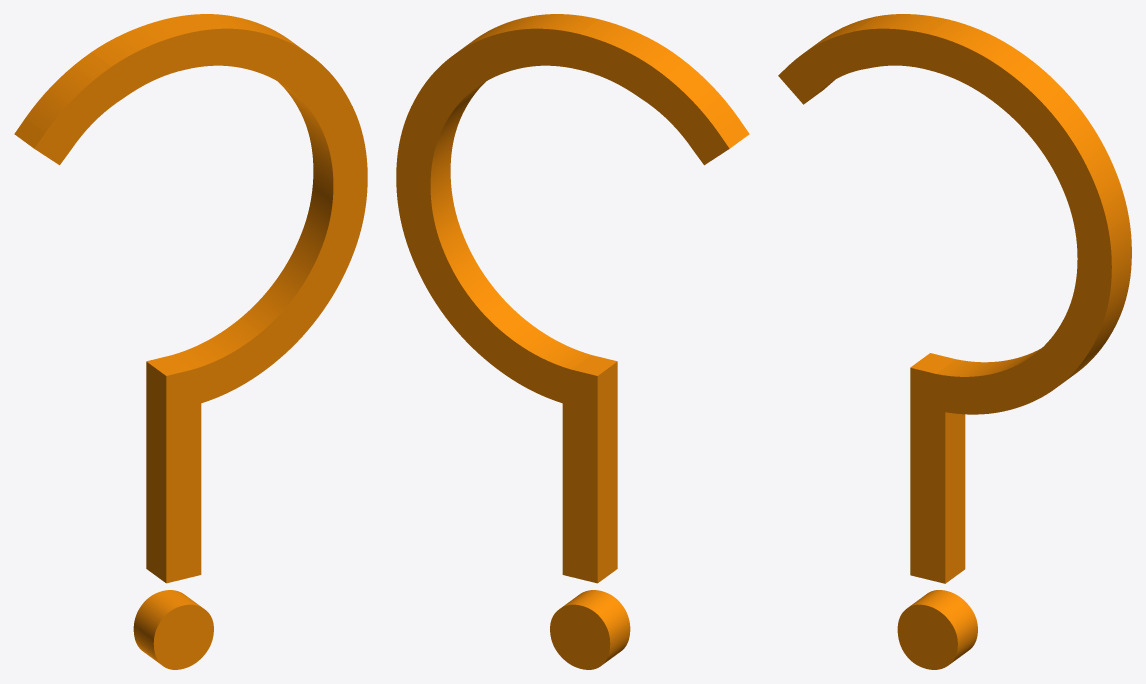
Rendered from Question.FBX.
3 views of the same model, side by side, from view 1: azimuth 30°, elevation 25°; view 2: azimuth 150°, elevation 25°; view 3: azimuth 330°, elevation 25° (orthographic).
Parts seen in each view (by area): view 1: Question; view 2: Question; view 3: Question.
Part boxes in pixels (left/top/right/bottom): Question: left=14, top=14, right=367, bottom=669; Question: left=396, top=14, right=749, bottom=669; Question: left=778, top=14, right=1131, bottom=669.
Bounding box in the file's own units: 47.97 × 87.24 × 5.
